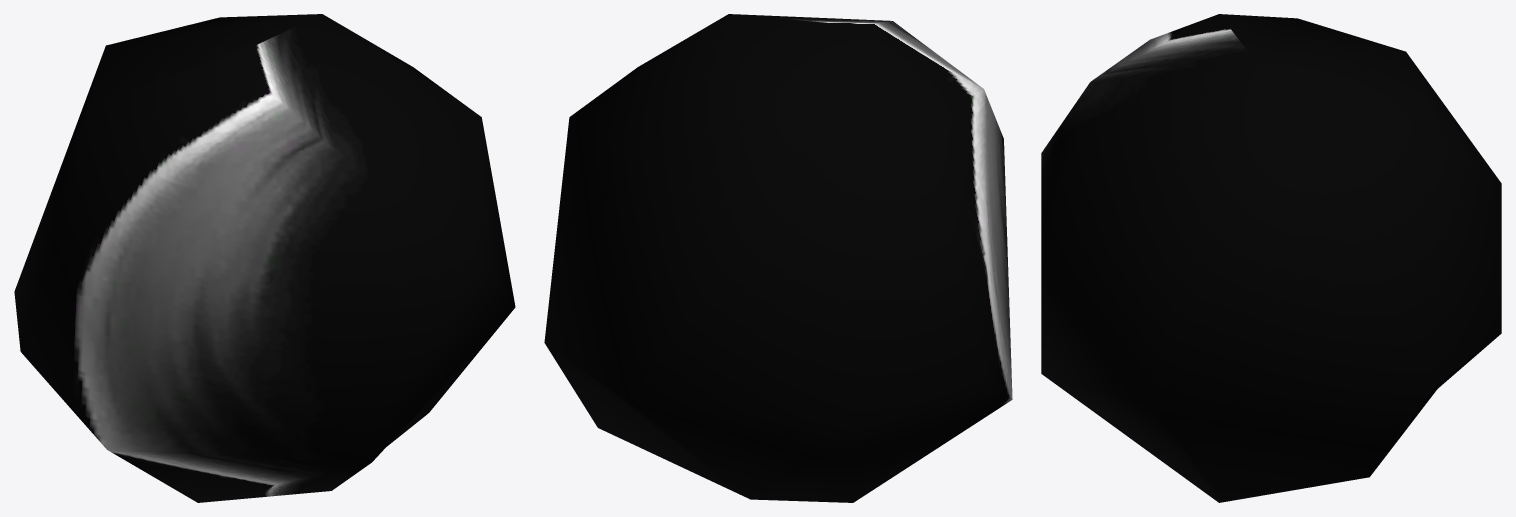
File: 0282_dashikuai_01.glb
3 renders of one model, left to right at view 1: azimuth 30°, elevation 25°; view 2: azimuth 150°, elevation 25°; view 3: azimuth 270°, elevation 25°, orthographic. The views are drawn at different scales.
Bounding box in the file's own units: 2.09 × 2.2 × 2.08.
Materials: 1 (1 with a texture image).
